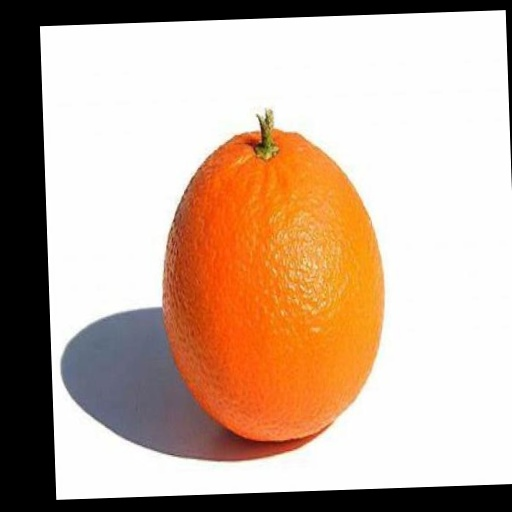fruit: (162, 113, 383, 440)
